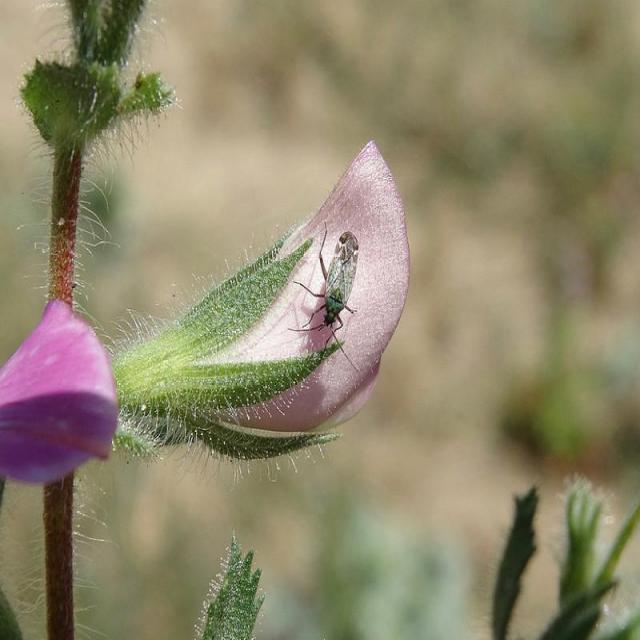Miridae-Adult-: (285, 217, 367, 371)
